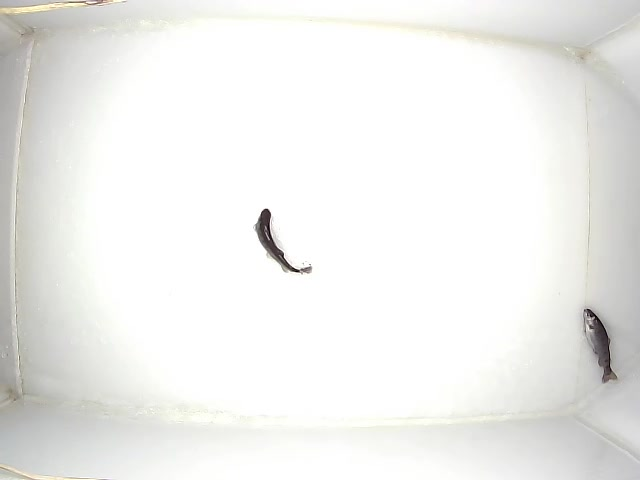fish: (253, 208, 312, 276), (583, 309, 618, 384)
